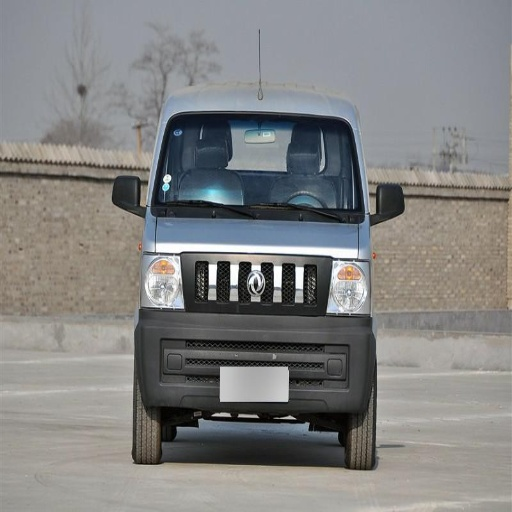front_bumper: (136, 277, 370, 421)
front_right_light: (144, 252, 184, 309)
hood: (154, 217, 251, 252)
trunk: (231, 223, 353, 286)
